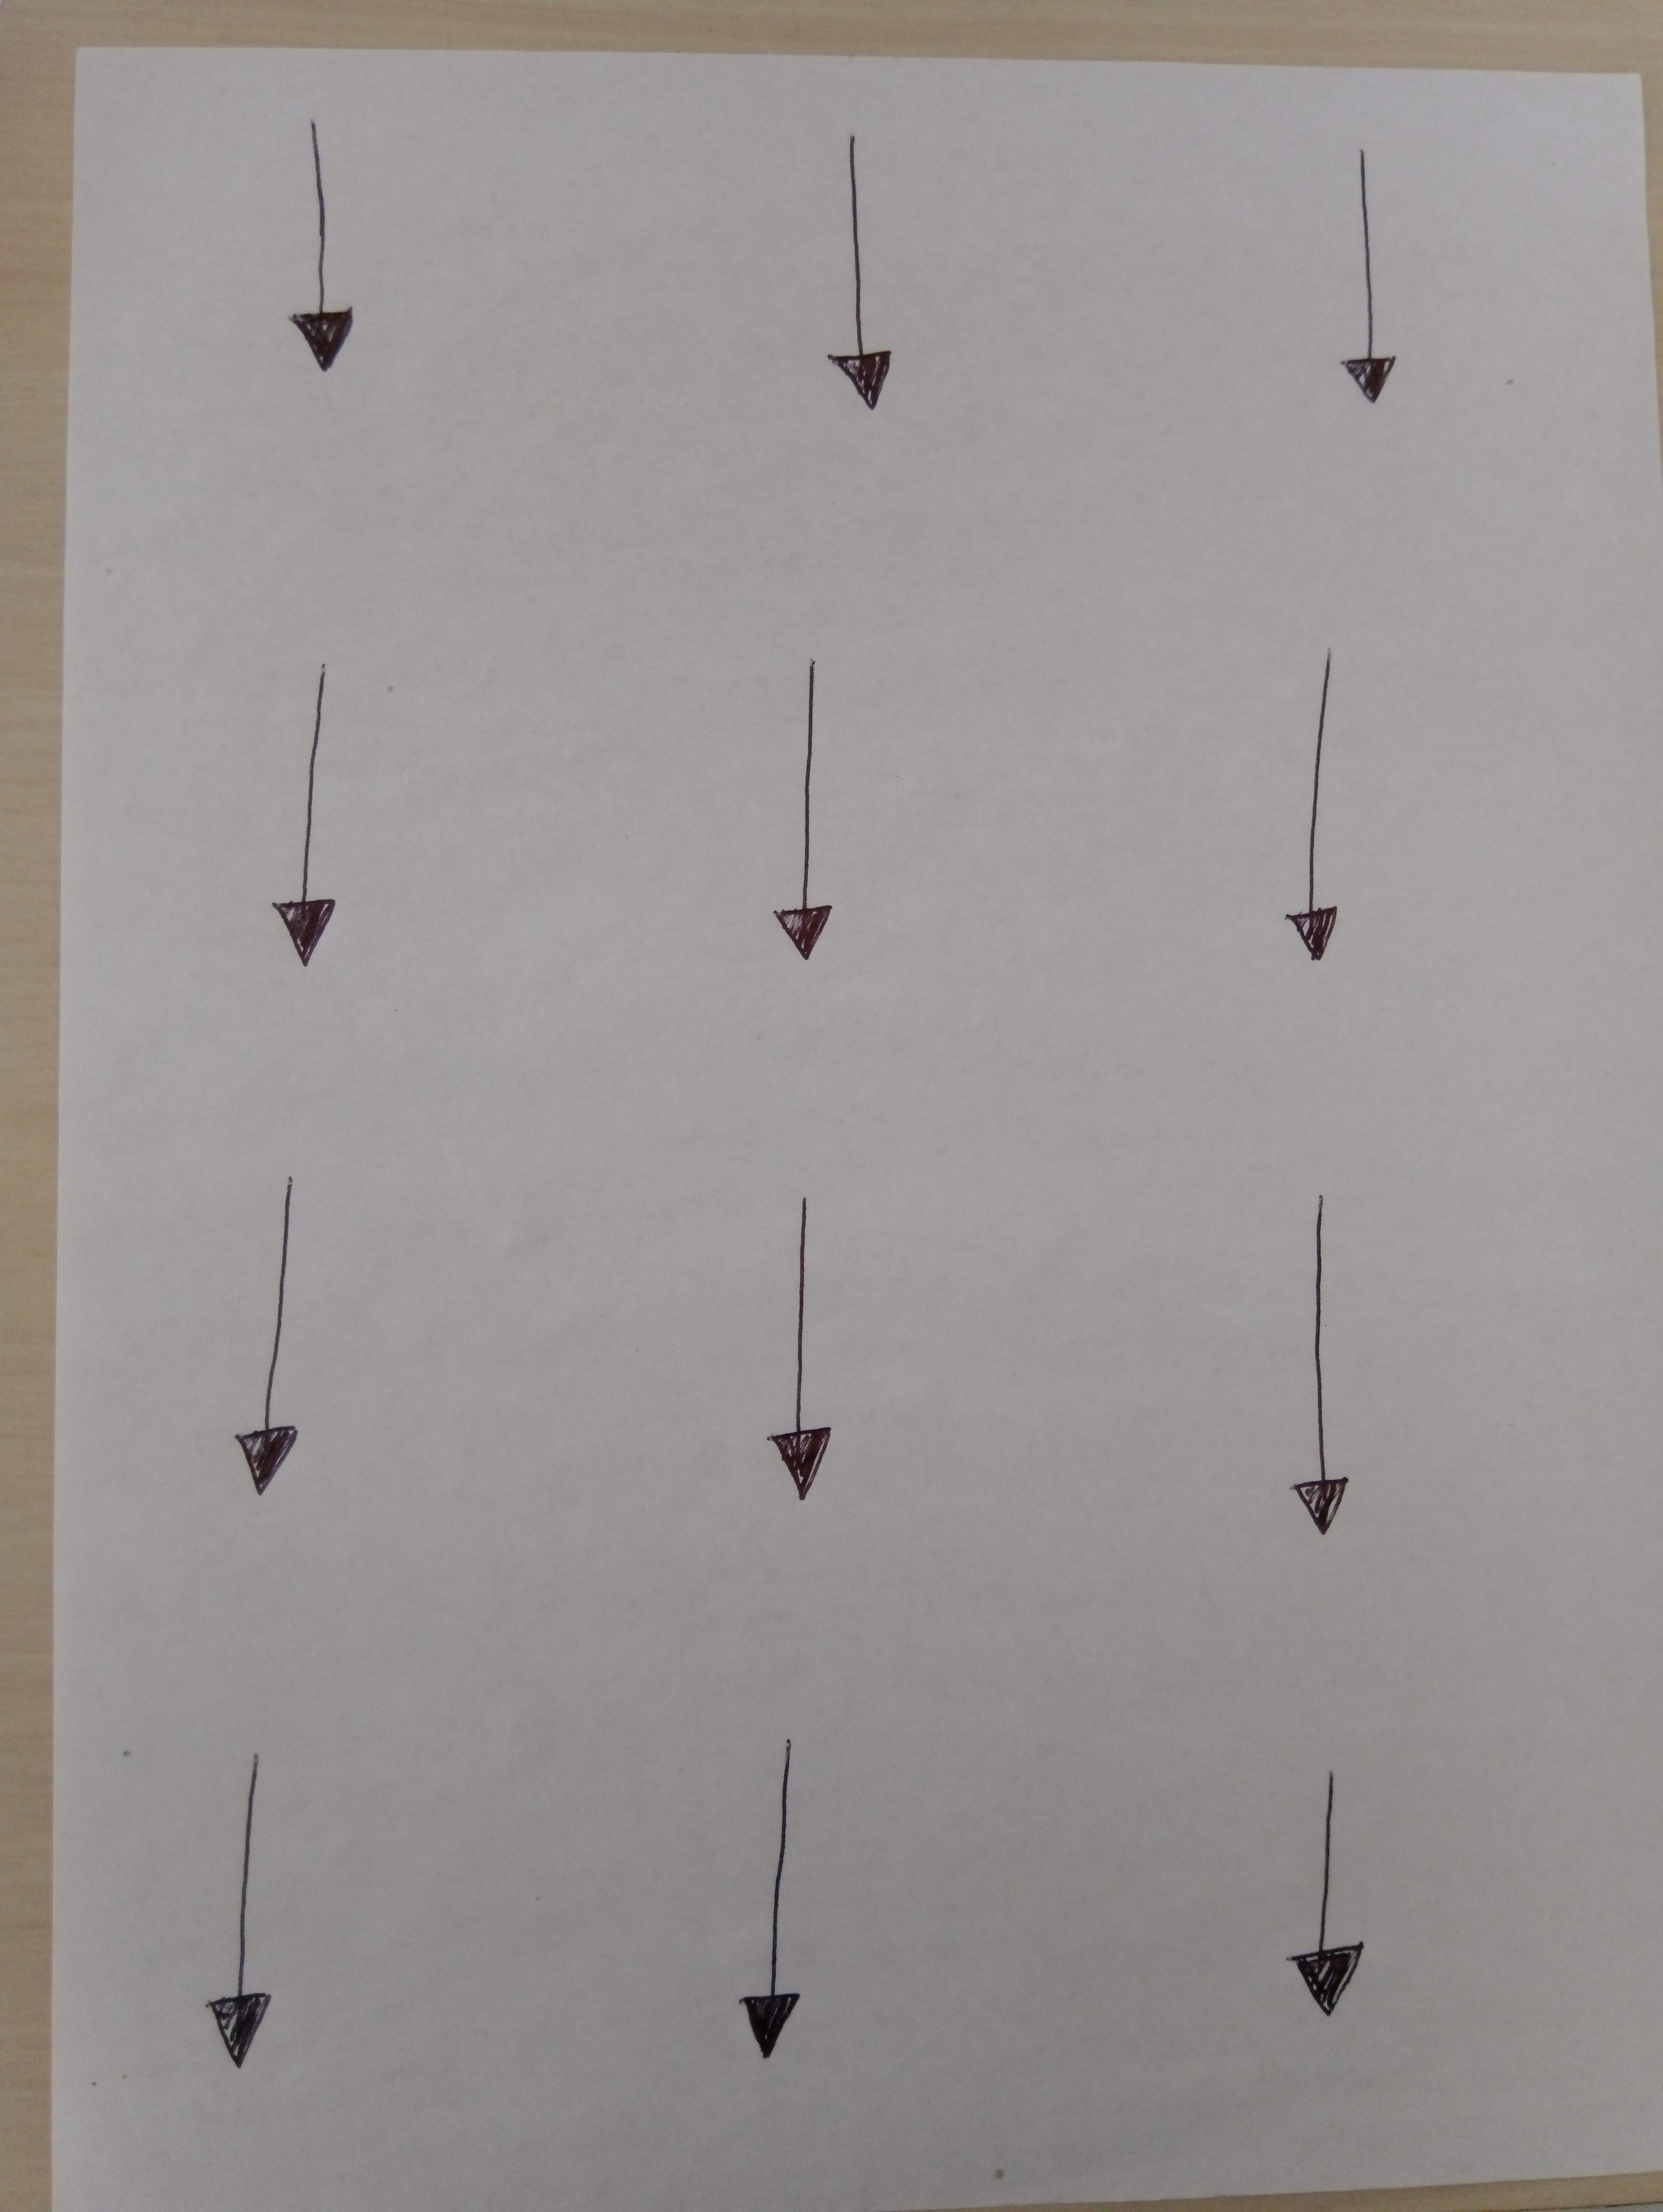arrow_line_down: (746, 651, 859, 992), (199, 1741, 306, 2092), (723, 1711, 823, 2085), (1277, 1198, 1387, 1528), (1261, 662, 1373, 981), (220, 1164, 323, 1510), (797, 127, 903, 431), (269, 112, 386, 384), (760, 1215, 859, 1521), (273, 655, 360, 978), (1287, 1751, 1380, 2037), (1321, 141, 1413, 402)
